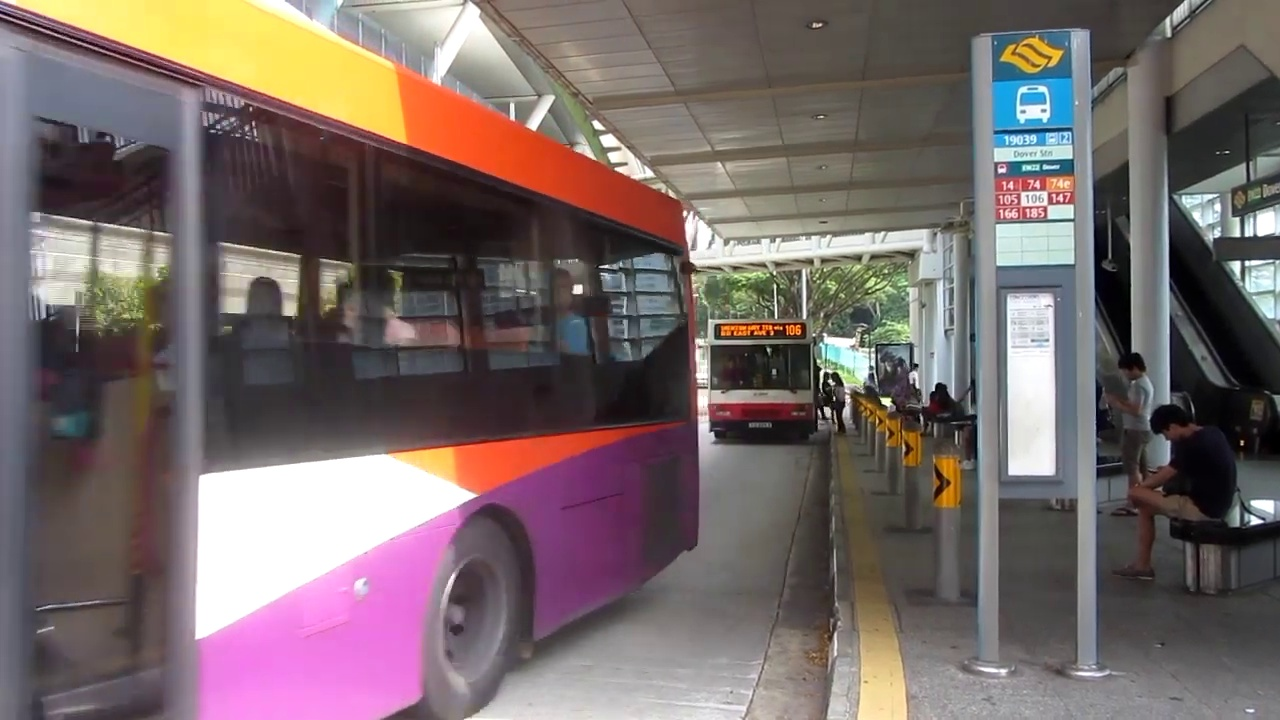bus panel: (713, 322, 808, 341)
